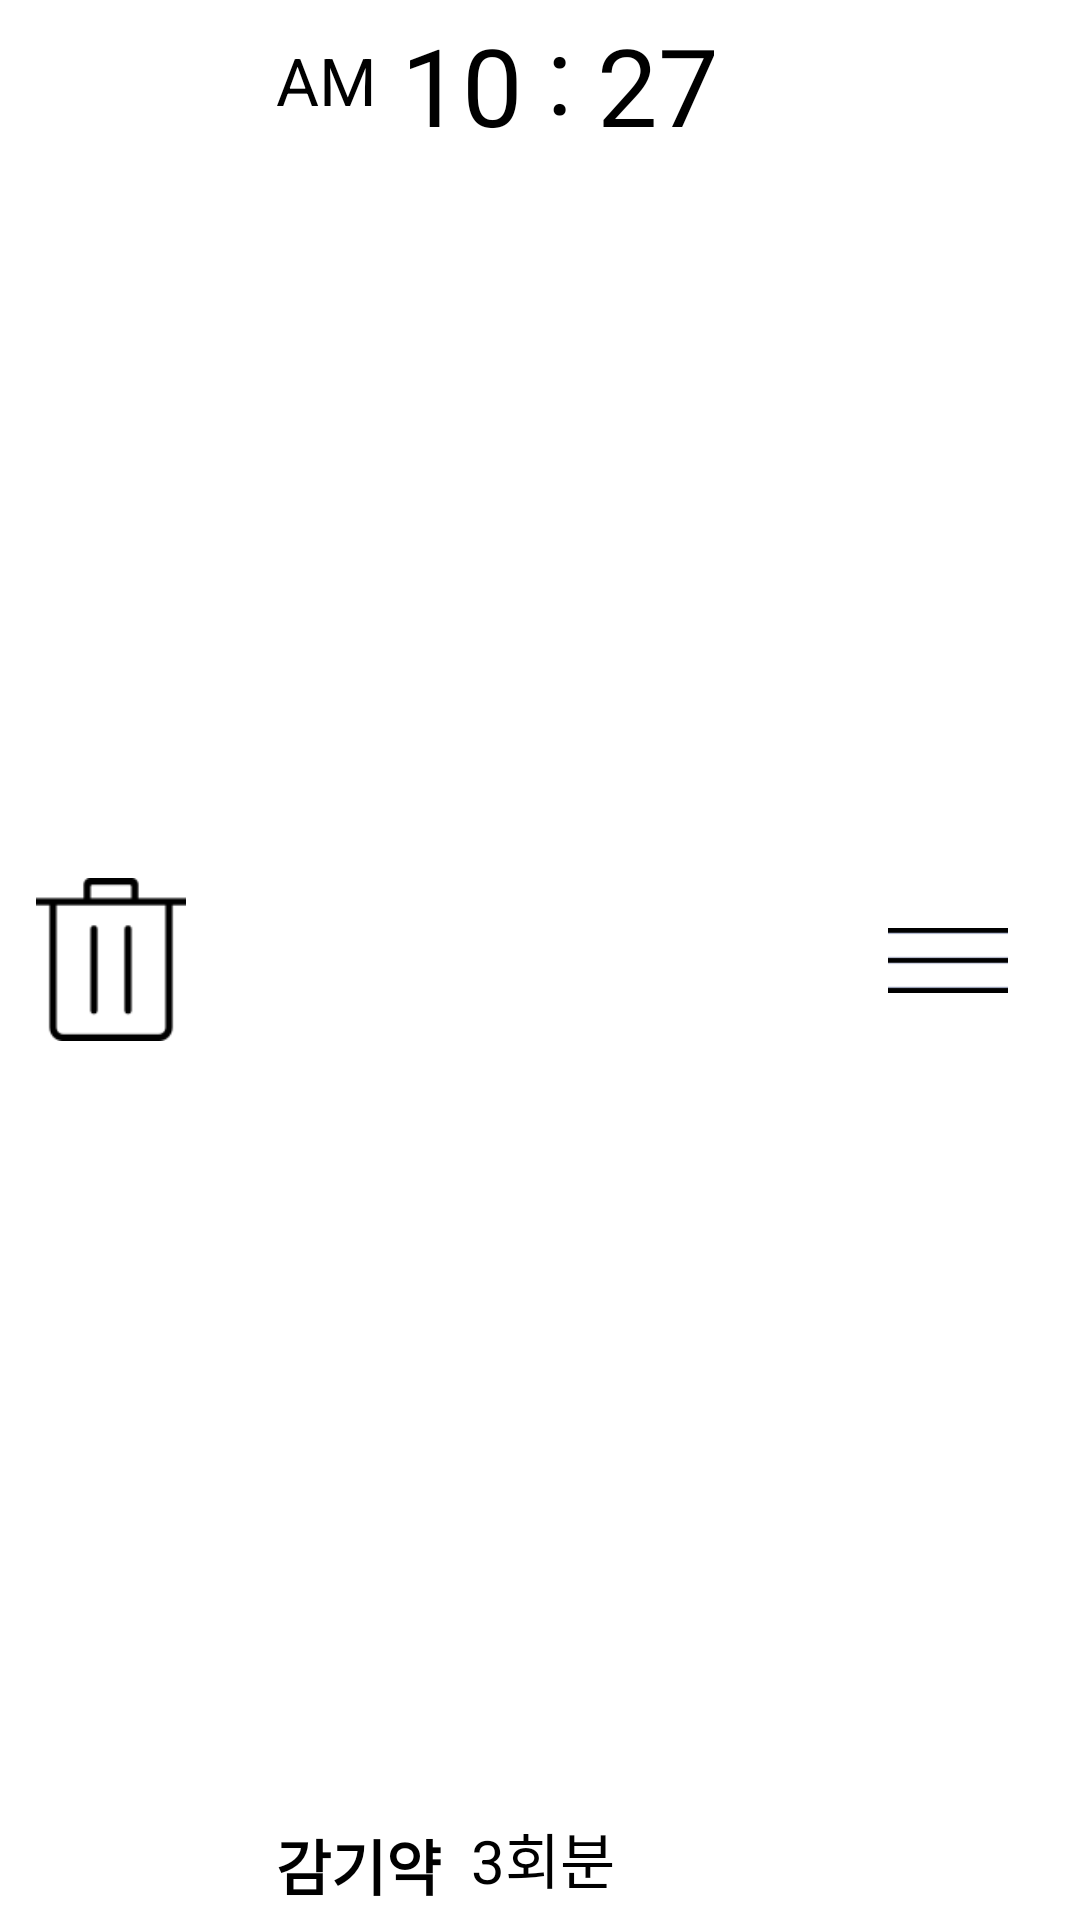

Icon click points for this 1080w x 1920h phone screenshot, format (x,y):
menu: (948,960)
trash: (111,959)
